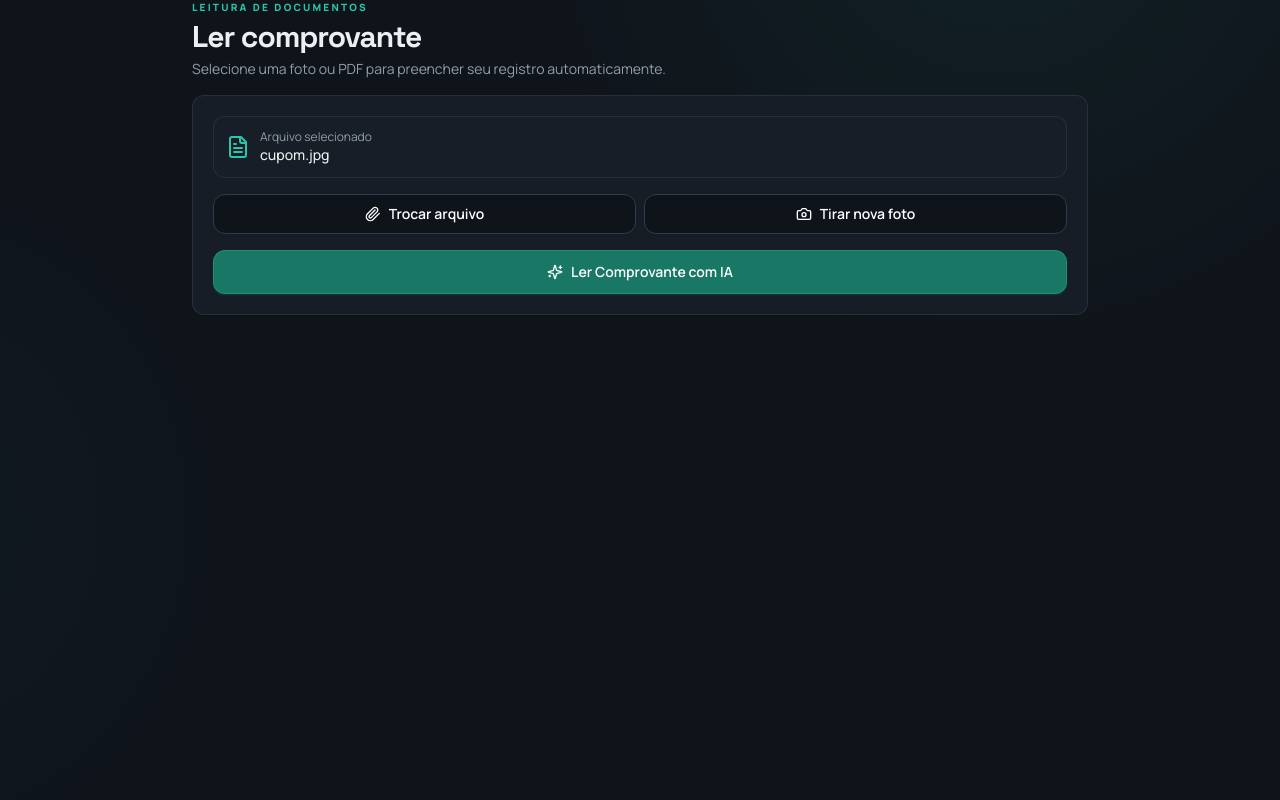
Test case: ReceiptImport free external AI reader (test) › surfaces free-reader errors (quota, auth, config) without any paid fallback
Earlier steps of the test are not shown.
Click the button "Ler Comprovante com IA": click(640, 272) [213,250,1067,294]
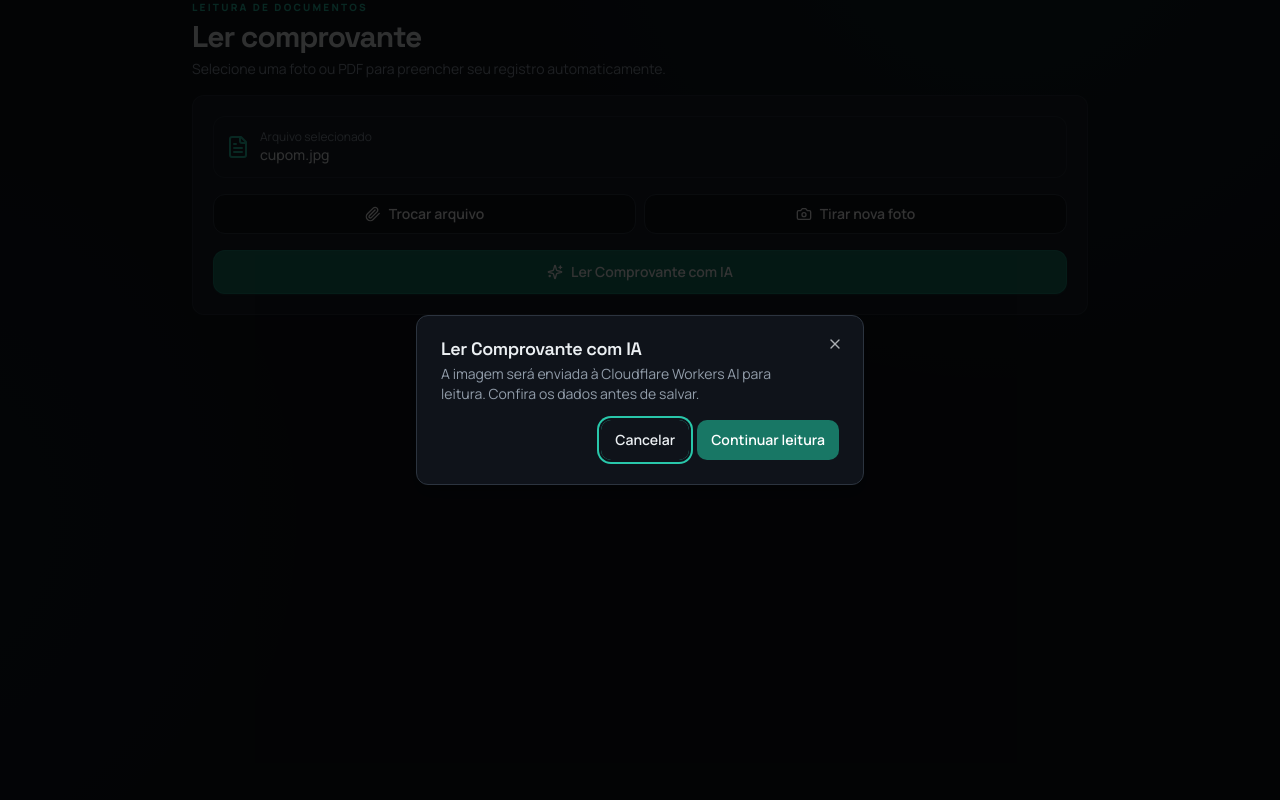
Click the button "Continuar leitura": click(768, 440) [697,420,839,460]
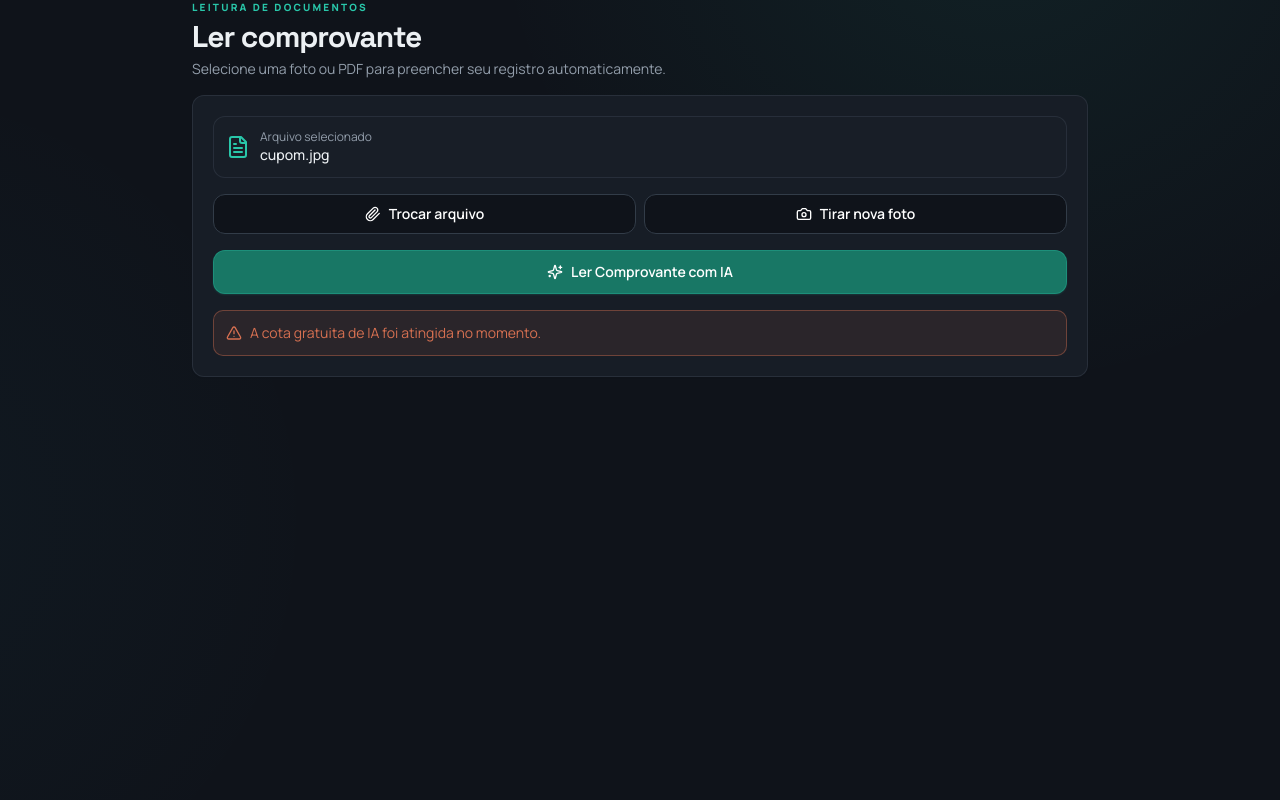
Expected: the text "A cota gratuita de IA foi atingida no momento." is shown, [250,323,541,342]
